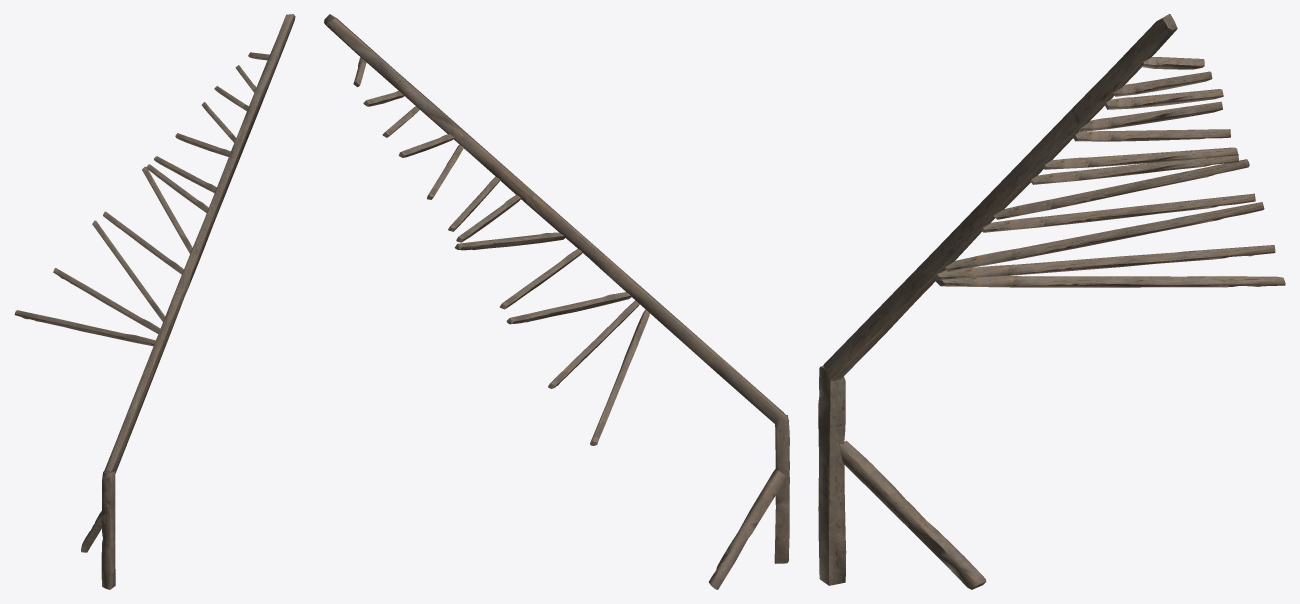
Rendered from Tent_P_WoodenStand07.FBX.
3 renders of one model, left to right at view 1: azimuth 30°, elevation 25°; view 2: azimuth 150°, elevation 25°; view 3: azimuth 270°, elevation 25°, orthographic. The views are drawn at different scales.
Parts seen in each view (by area): view 1: Tent_P_WoodenStand07; view 2: Tent_P_WoodenStand07; view 3: Tent_P_WoodenStand07.
Part boxes in pixels (bbox=[...]): Tent_P_WoodenStand07: bbox=[14, 14, 295, 589]; Tent_P_WoodenStand07: bbox=[324, 14, 789, 589]; Tent_P_WoodenStand07: bbox=[818, 14, 1285, 589].
Bounding box in the file's own units: 1170 × 1728 × 903.
